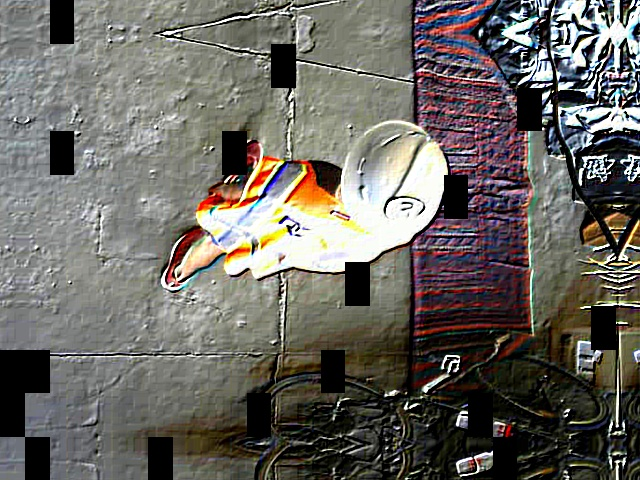three: (385, 196, 427, 224)
